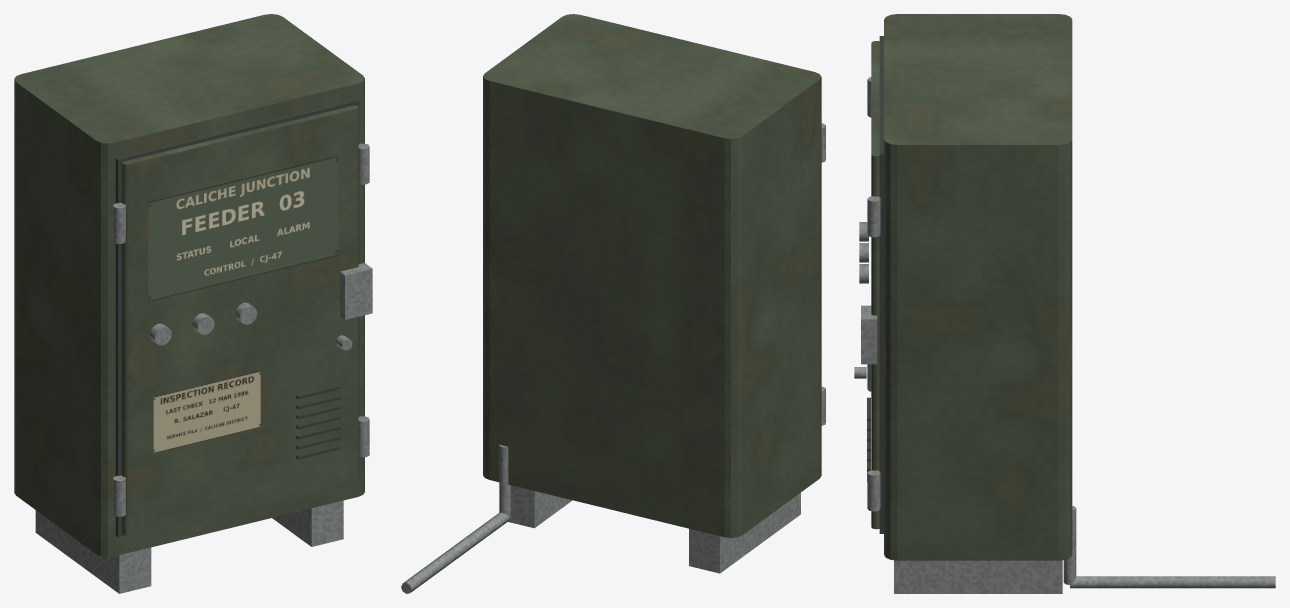
File: SM_Substation_Control.glb
3 views of the same model, side by side, from view 1: azimuth 30°, elevation 25°; view 2: azimuth 150°, elevation 25°; view 3: azimuth 270°, elevation 25° (orthographic). The views are drawn at different scales.
Visible parts, largest first — view 1: SM_Substation_Control; view 2: SM_Substation_Control; view 3: SM_Substation_Control.
Part boxes in pixels (<box>): SM_Substation_Control: <box>14,14,372,593</box>; SM_Substation_Control: <box>401,14,825,593</box>; SM_Substation_Control: <box>854,14,1275,593</box>.
Size of the model in its own units: 1.25 by 2.05 by 1.7.
Materials: 4 (3 with a texture image).
